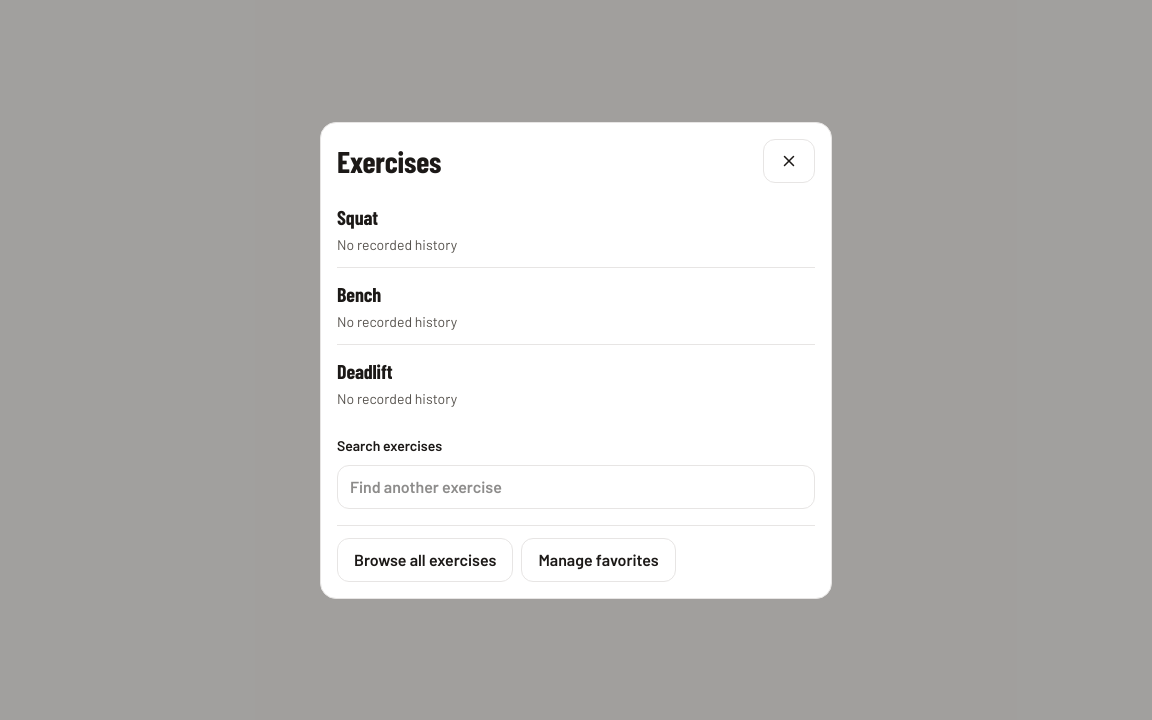
Test: bounded graph exercise chooser › aborts stale search and ignores an older response even if it arrives after the newer result
Step 1. Type "old" into the search field labelled "Search exercises" → [576, 486], box x1=337 y1=464 x2=815 y2=508
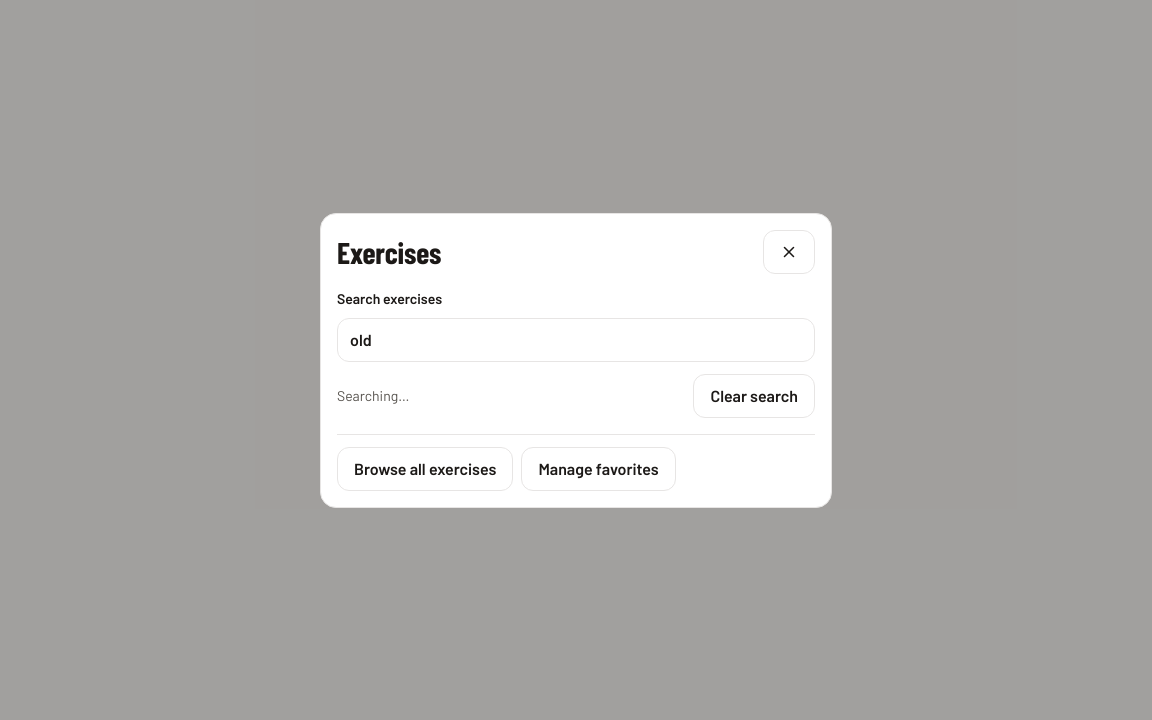
Step 2. Replace the text in the search field labelled "Search exercises" with "new" → [576, 340], box x1=337 y1=318 x2=815 y2=362
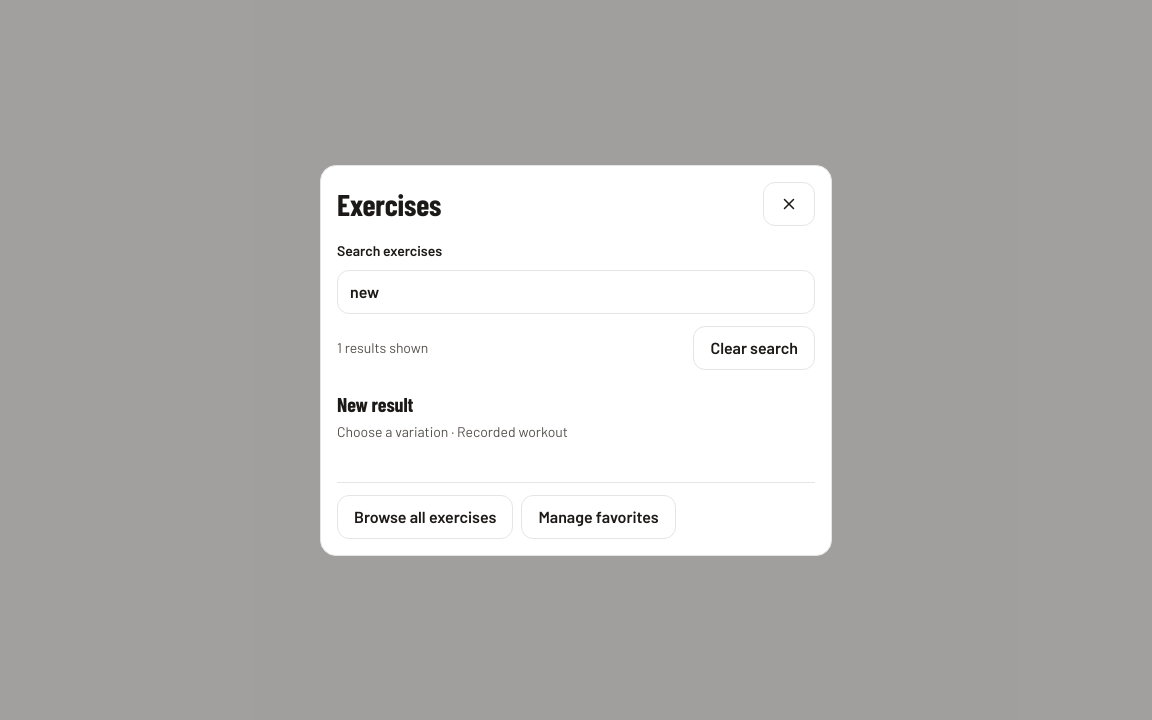
Check: the text "New result" is shown, box x1=337 y1=392 x2=413 y2=416
